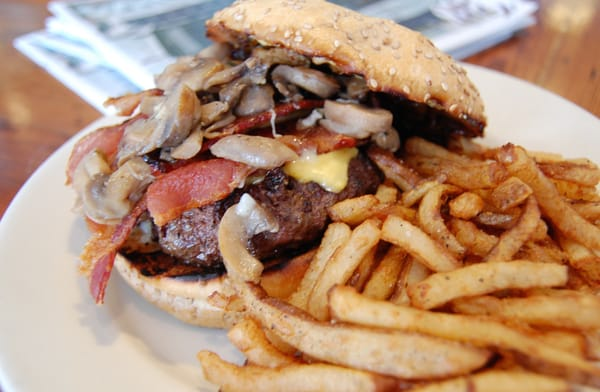soup: (55, 1, 589, 385)
